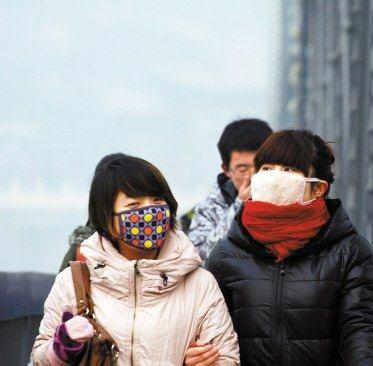NONE: (230, 155, 272, 200)
OK: (112, 189, 174, 252), (253, 164, 314, 216)
